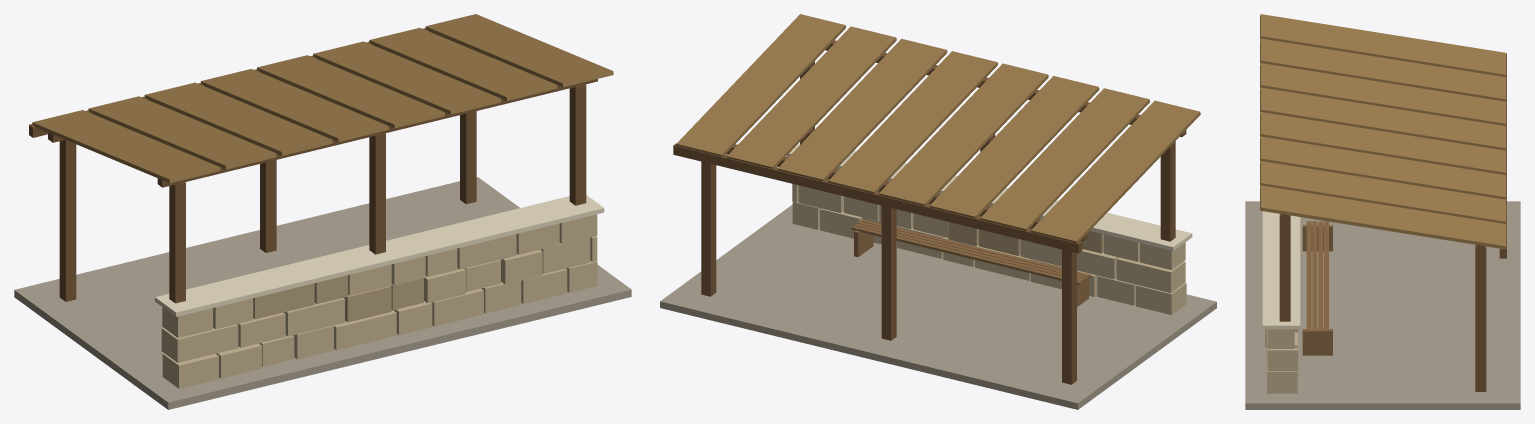
File: mirador-shelter.glb
The picture shows the model from 3 angles, left to right: view 1: azimuth 30°, elevation 25°; view 2: azimuth 150°, elevation 25°; view 3: azimuth 270°, elevation 25°; orthographic projection. The views are drawn at different scales.
Visible parts, largest first — view 1: mirador-shelter; view 2: mirador-shelter; view 3: mirador-shelter.
Boxes of the visible parts, x1,y1,x2,y2 form: mirador-shelter: [14, 14, 631, 409]; mirador-shelter: [660, 14, 1216, 409]; mirador-shelter: [1245, 14, 1520, 409].
Size of the model in its own units: 6.6 by 3.02 by 3.8.
